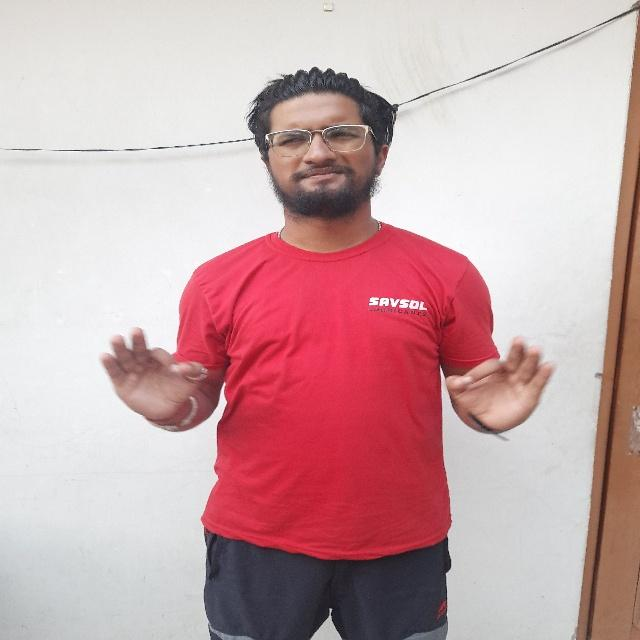Okay: (85, 323, 212, 436), (438, 330, 564, 437)
